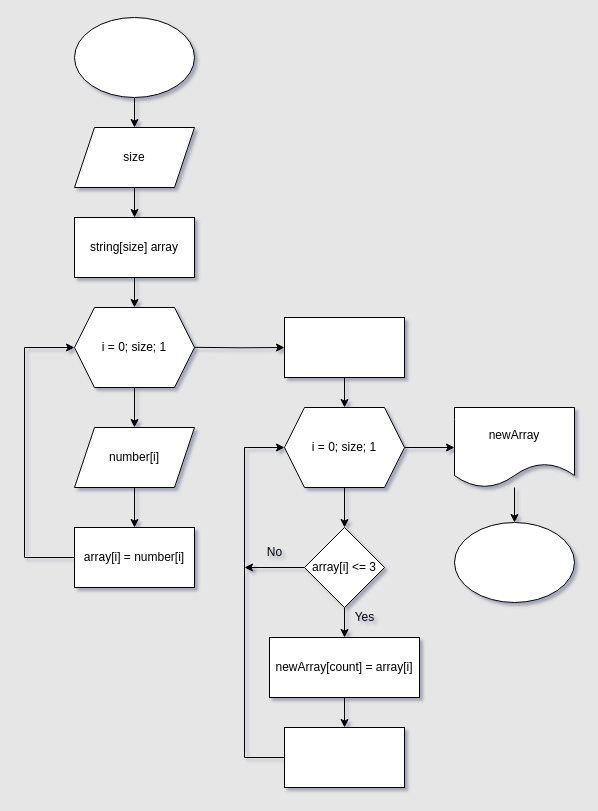
Some shapes in this 598 by 811 pixel diagram are drawn without their labels. The box of each missing label's shape, as (x1, y1, x2, y2) in pixels:
count = 0 string[] newArary: (284, 316, 404, 378)
count = count + 1: (284, 726, 404, 788)
End: (454, 522, 574, 602)
Start: (74, 16, 194, 98)
